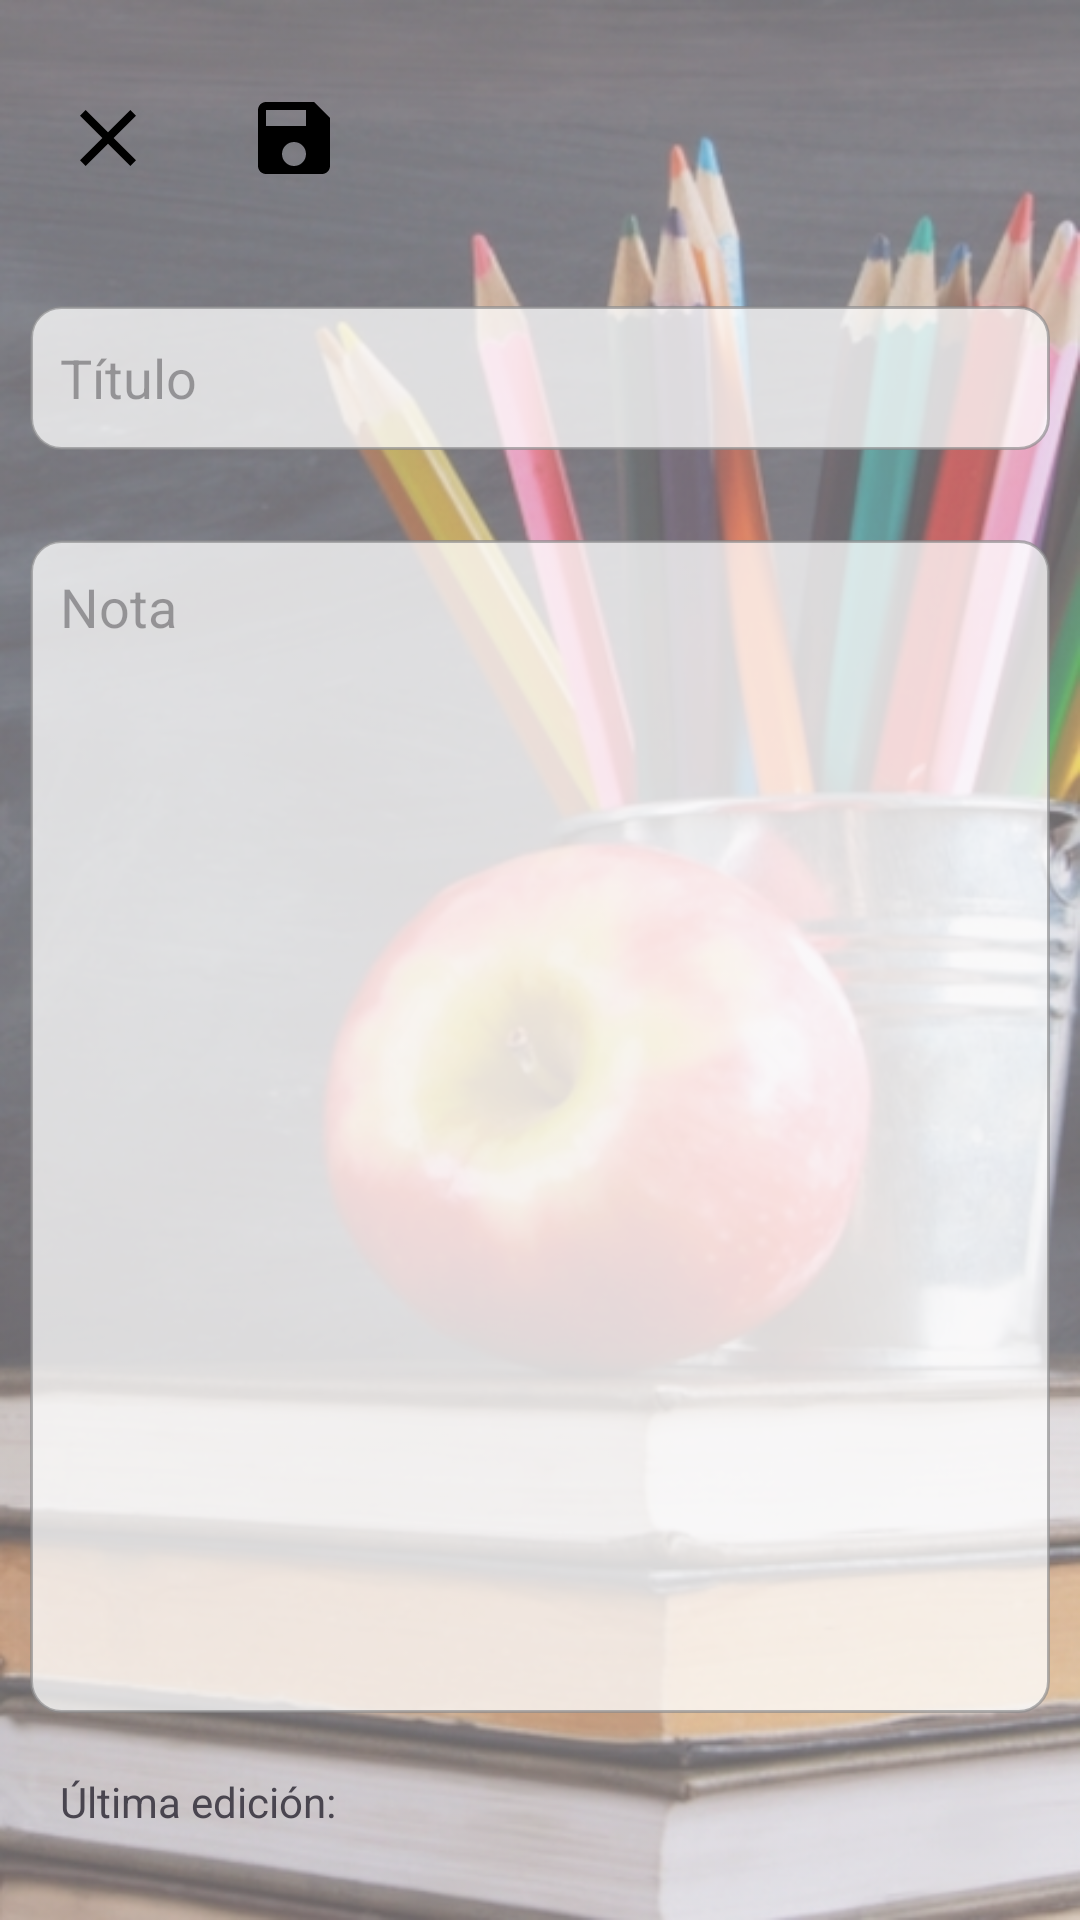

Icons on this 1080 × 1920 Android screen, each with the point to tap as (x=x, y=y):
notes close: (x=108, y=138)
notes save: (x=294, y=138)
